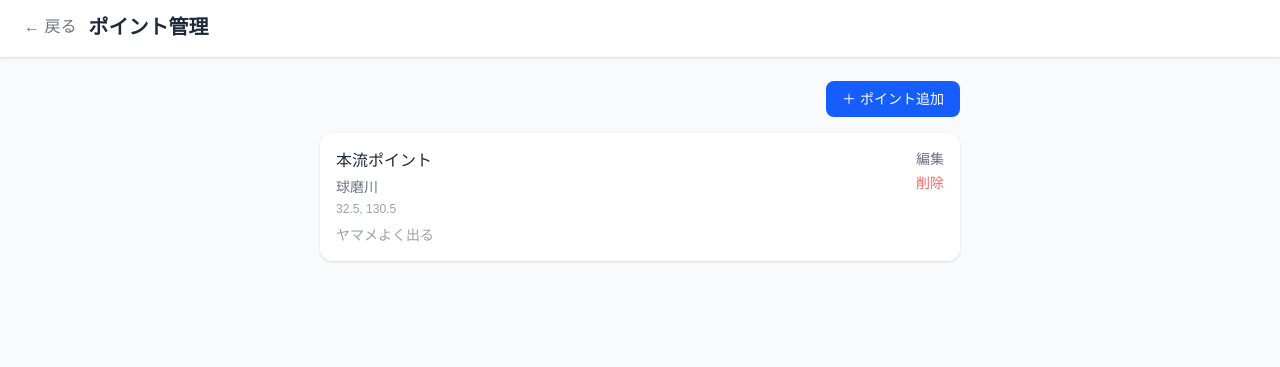
it: SpotsPage › 削除ボタン: confirm 受諾で DELETE し、削除後に reload して UI から消える
Expected: the text "本流ポイント" is shown, [336,149,434,173]
Click the button "削除". click: (930, 183)
box: [916,173,944,193]
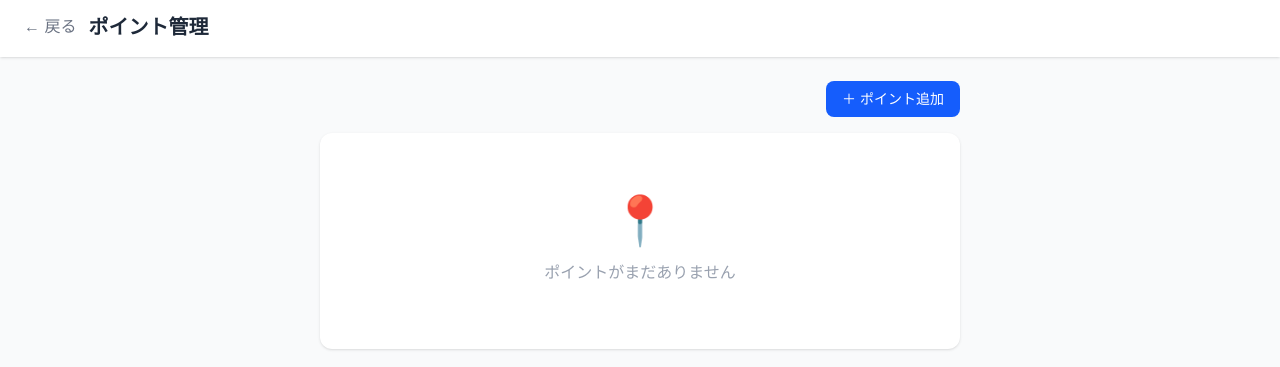
Expected: the text "本流ポイント" is gone
